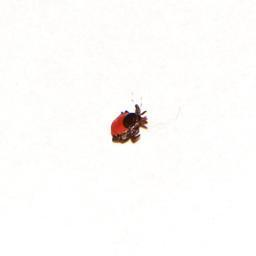Ixodes scapularis: (110, 104, 149, 144)
